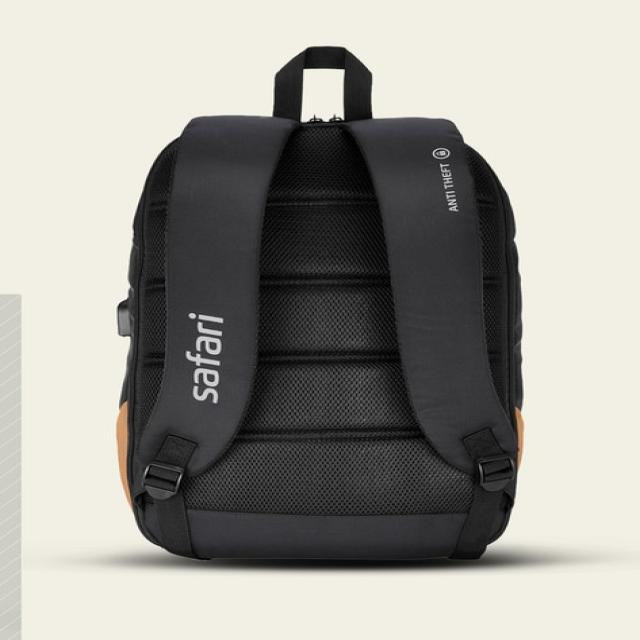backpack: (116, 47, 525, 563)
